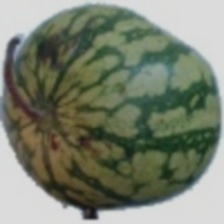watermelon: (13, 43, 181, 210)
